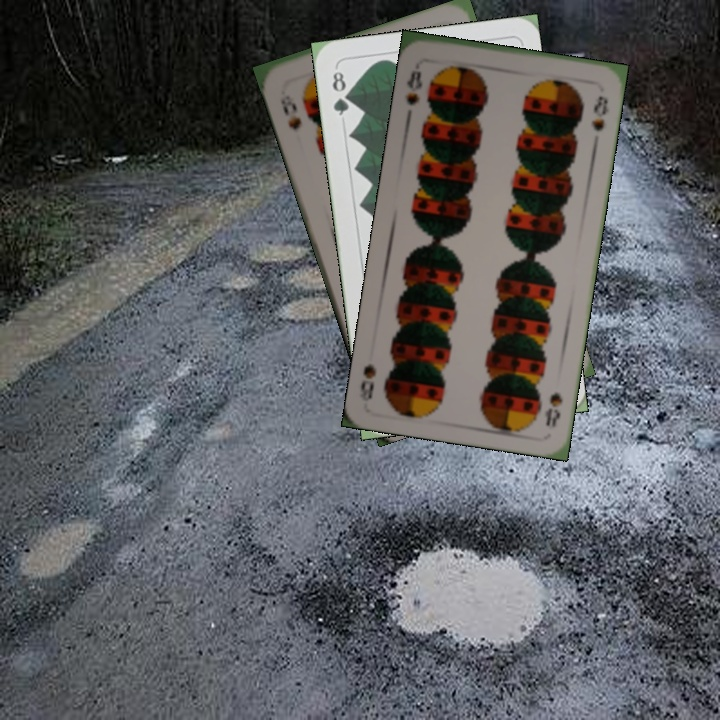G8: (328, 67, 353, 119)
S8: (276, 94, 304, 133), (540, 388, 565, 430), (402, 66, 425, 108)
